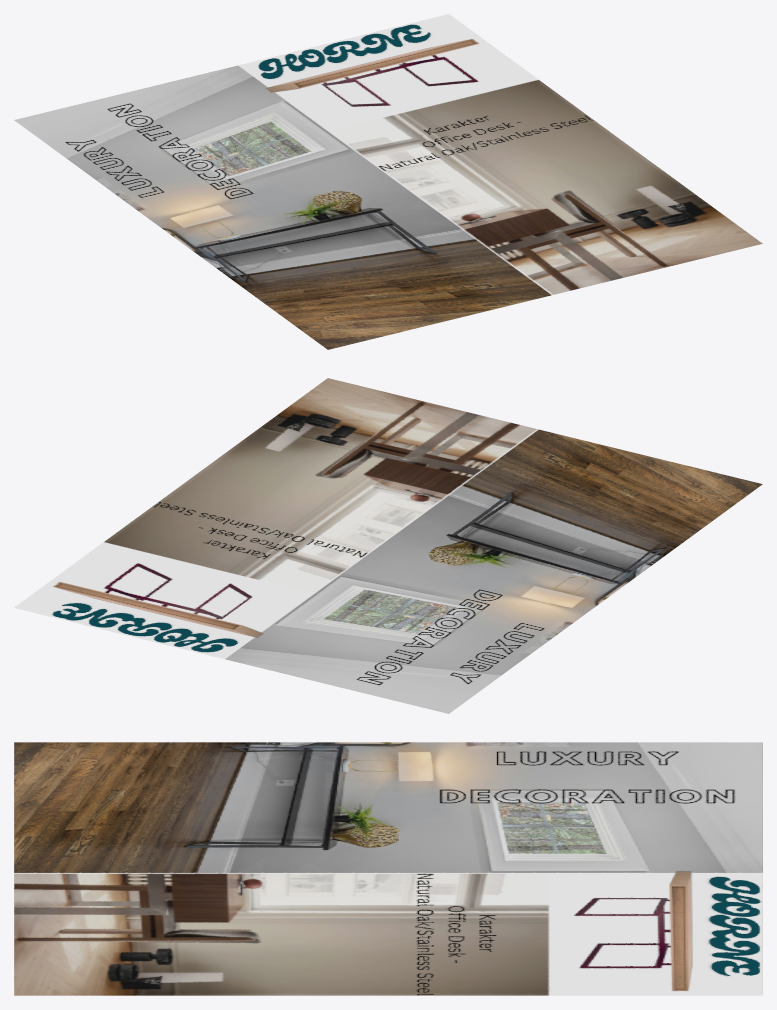
File: excellent4.glb
The picture shows the model from 3 angles, top to bottom: view 1: azimuth 30°, elevation 25°; view 2: azimuth 150°, elevation 25°; view 3: azimuth 270°, elevation 25°; orthographic projection. The views are drawn at different scales.
Visible parts, largest first — view 1: Plane; view 2: Plane; view 3: Plane.
Part boxes in pixels (box(x1,y1,x2,y2)): Plane: box(14, 14, 762, 349); Plane: box(14, 378, 762, 713); Plane: box(14, 742, 762, 995).
Size of the model in its own units: 0.4 by 0 by 0.5.
Materials: 1 (1 with a texture image).
